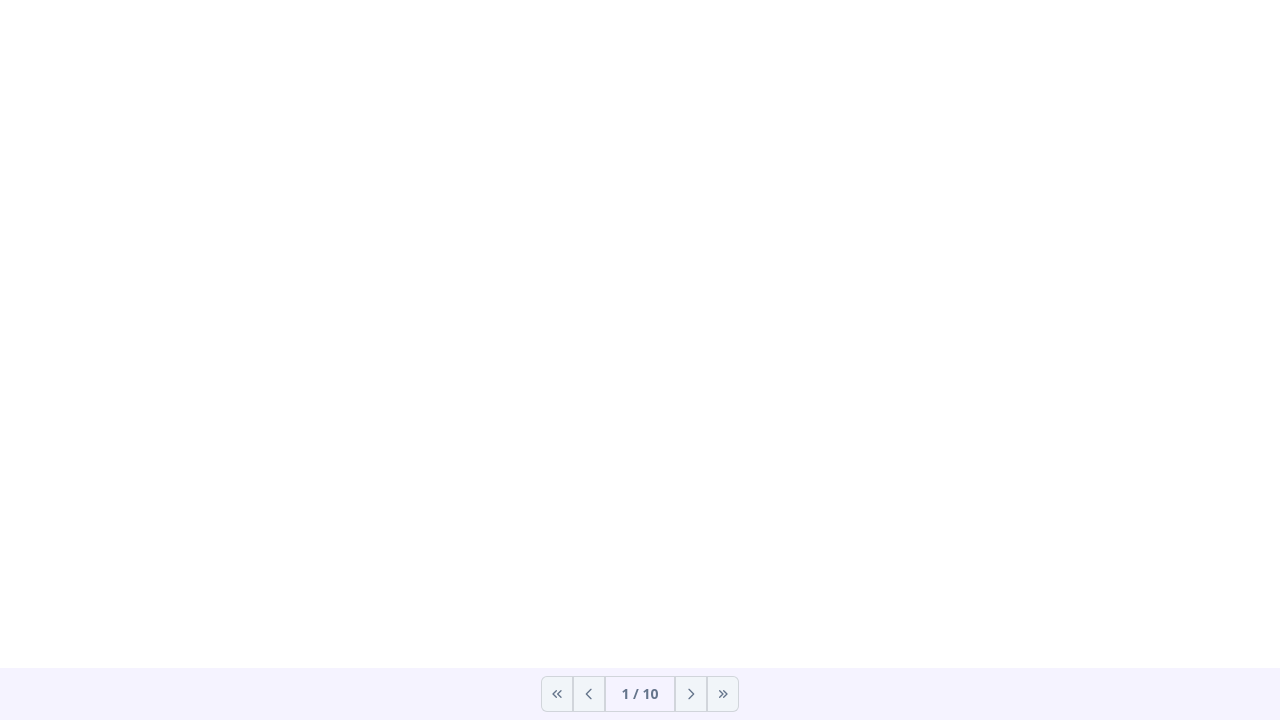
Test: Pagination › allows user to paginate previous, next, first, and last pages
Expected: the text with test id "page-display" reads "1 / 10", x1=605 y1=676 x2=674 y2=712
Click the button with test id "next-button" at coordinates (690, 694), box x1=674 y1=676 x2=706 y2=712
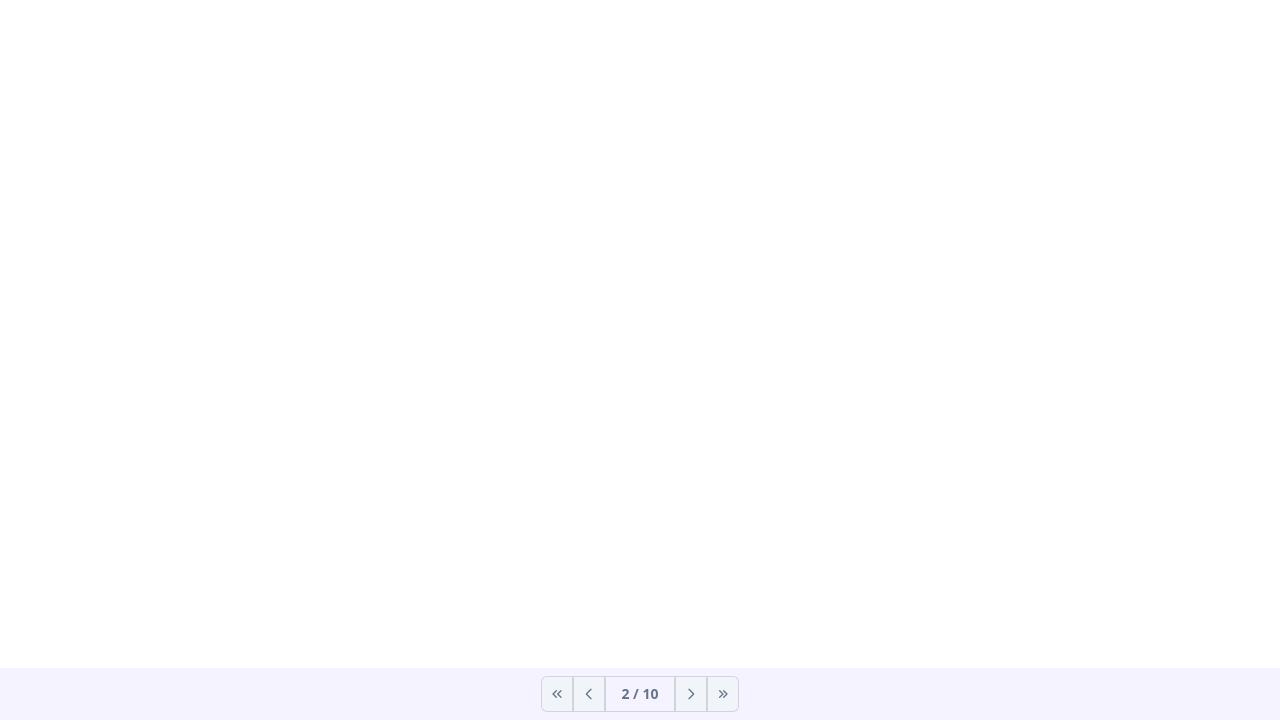
Expected: the text with test id "page-display" reads "2 / 10", x1=605 y1=676 x2=674 y2=712
Click the button with test id "last-button" at coordinates (722, 694), box x1=706 y1=676 x2=738 y2=712
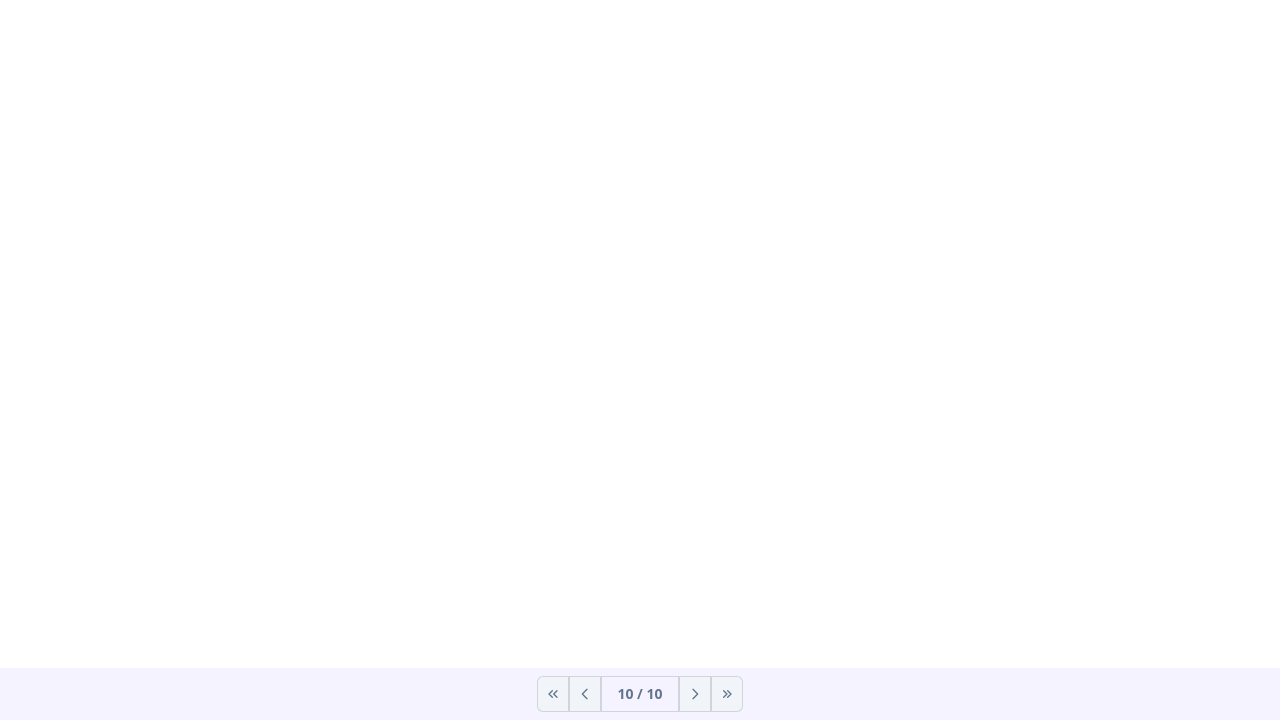
Expected: the text with test id "page-display" reads "10 / 10", x1=601 y1=676 x2=678 y2=712
Click the button with test id "previous-button" at coordinates (585, 694), box x1=569 y1=676 x2=601 y2=712
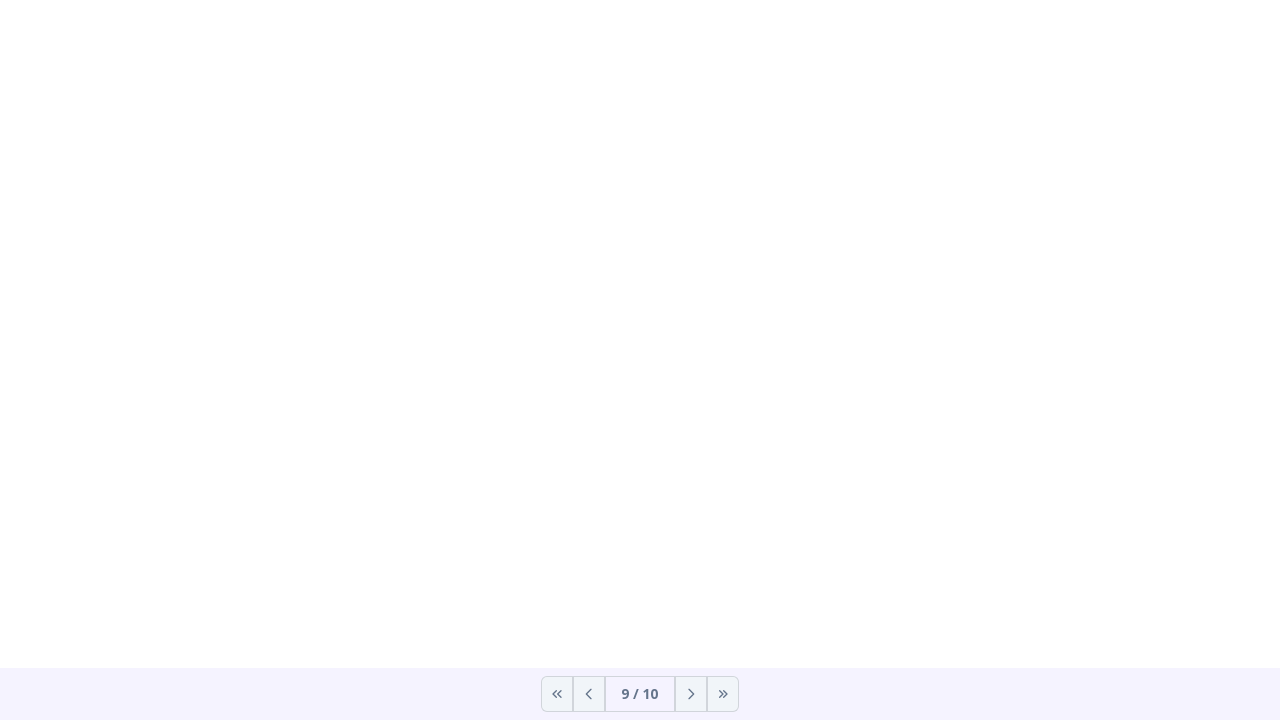
Expected: the text with test id "page-display" reads "9 / 10", x1=605 y1=676 x2=674 y2=712
Click the button with test id "first-button" at coordinates (557, 694), box x1=541 y1=676 x2=573 y2=712
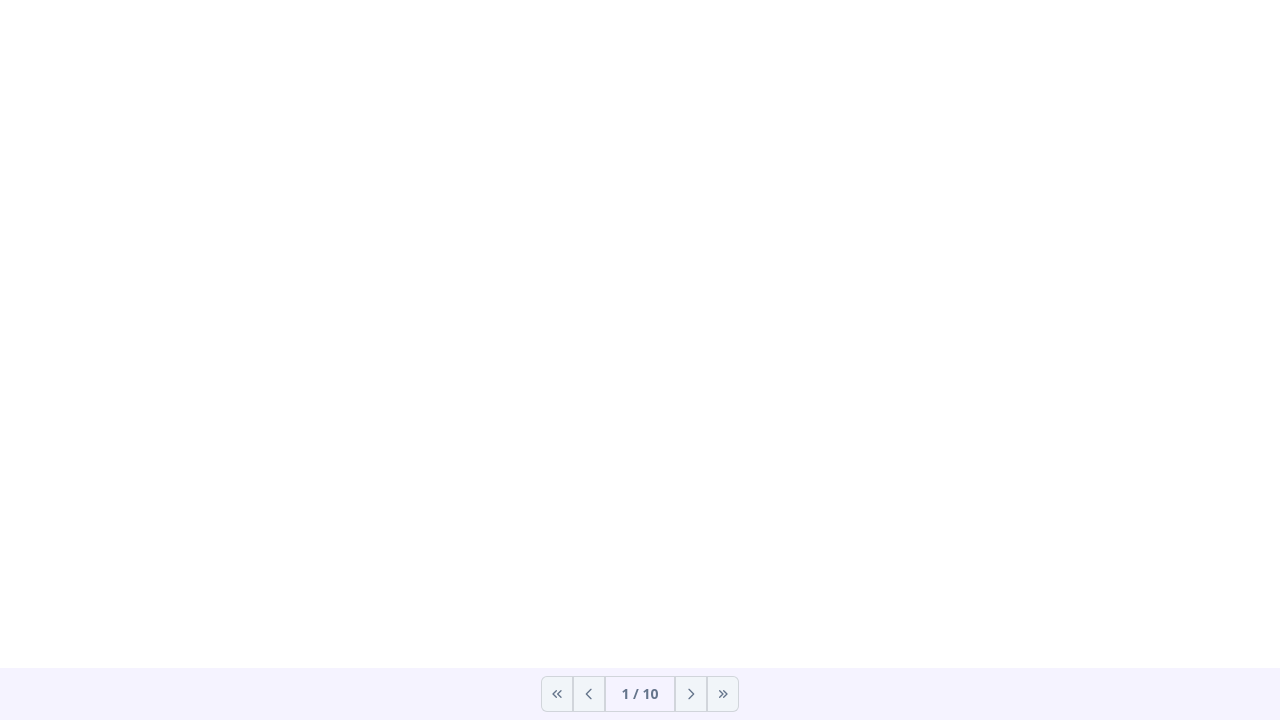
Expected: the text with test id "page-display" reads "1 / 10", x1=605 y1=676 x2=674 y2=712
